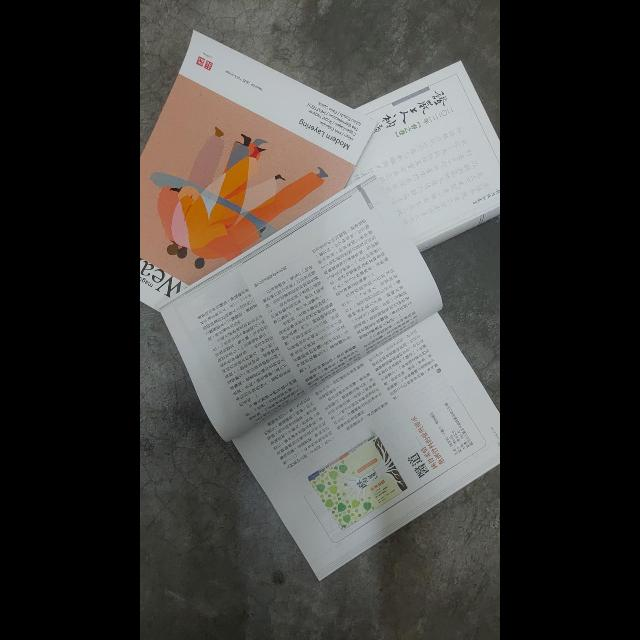papel: (140, 29, 500, 588)
